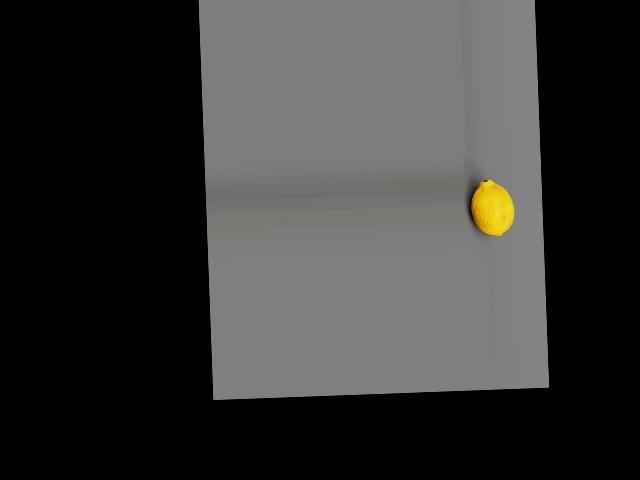lemon: (471, 178, 518, 238)
